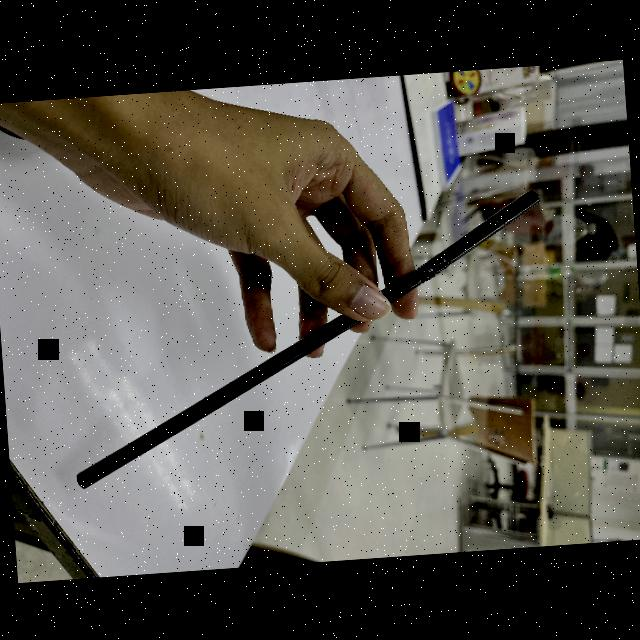straw: (53, 185, 558, 492)
